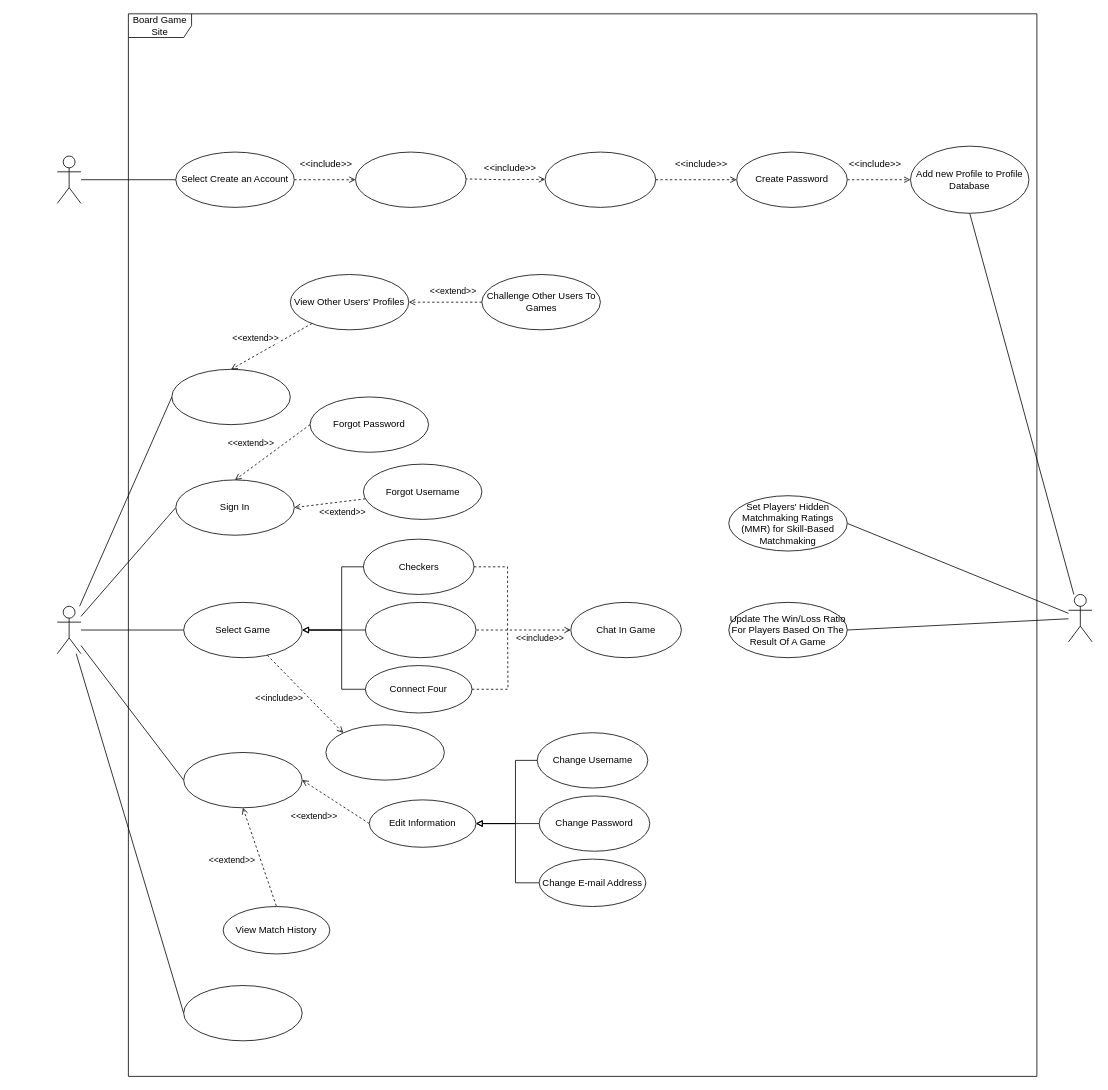
Image size: 1108x1090. Some labels were removed from this diagram. The shapes that lost their labels are listed below. From the top down, each one's centre as x and y in pixels, then its label:
At [68,179]: "New (Unregistered) Player".
At [410,179]: "Add E-mail Address".
At [600,179]: "Create Username".
At [230,397]: "Search For Other Users".
At [68,630]: "Existing Player".
At [420,630]: "Tic Tac Toe".
At [1080,618]: "Server".
At [384,752]: "Select Between Joining Ongoing Or New Games".
At [242,780]: "View Own Profile".
At [242,1013]: "View Leaderboard".
